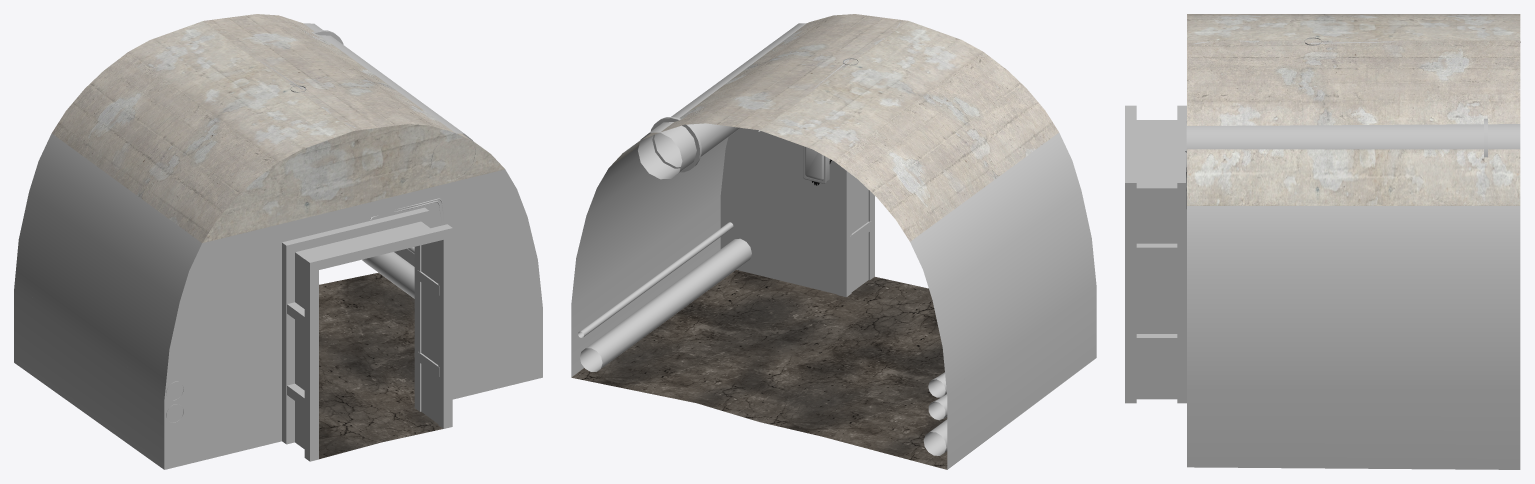
File: Corridor_wall_end.FBX
3 renders of one model, left to right at view 1: azimuth 30°, elevation 25°; view 2: azimuth 150°, elevation 25°; view 3: azimuth 270°, elevation 25°, orthographic. The views are drawn at different scales.
Parts seen in each view (by area): view 1: Corridor_wall_end, Corridor_floor_end, Object011, Tube_big_T002, Tube004; view 2: Corridor_wall_end, Corridor_floor_end, Tube004, Tube_big_T002, Object011, Tube_paint005, Electric_box_small001, Tube_warm005, Tube007; view 3: Corridor_wall_end, Tube_big_T002, Object011.
Part boxes in pixels (bbox=[...]): Corridor_wall_end: bbox=[14, 14, 542, 469]; Corridor_floor_end: bbox=[319, 272, 442, 459]; Object011: bbox=[282, 207, 452, 461]; Tube_big_T002: bbox=[303, 23, 475, 180]; Tube004: bbox=[362, 252, 414, 298]; Corridor_wall_end: bbox=[571, 14, 1096, 469]; Corridor_floor_end: bbox=[571, 270, 947, 469]; Tube004: bbox=[579, 238, 751, 371]; Tube_big_T002: bbox=[638, 23, 806, 179]; Object011: bbox=[837, 164, 874, 297]; Tube_paint005: bbox=[578, 222, 733, 337]; Electric_box_small001: bbox=[803, 146, 829, 183]; Tube_warm005: bbox=[928, 372, 947, 420]; Tube007: bbox=[923, 419, 947, 455]; Corridor_wall_end: bbox=[1136, 14, 1520, 469]; Tube_big_T002: bbox=[1186, 118, 1520, 178]; Object011: bbox=[1125, 105, 1186, 403].
Bounding box in the file's own units: 500 × 374 × 409.
